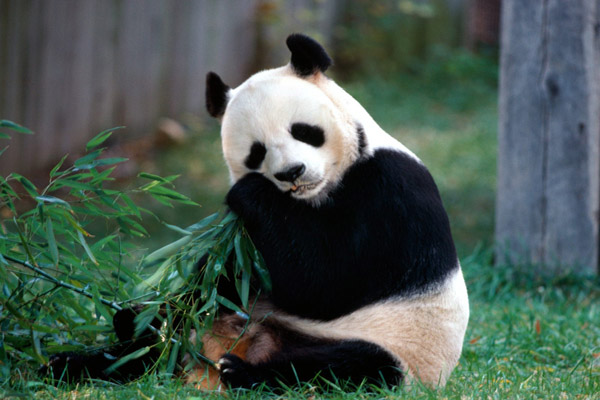panda: (177, 37, 503, 400)
